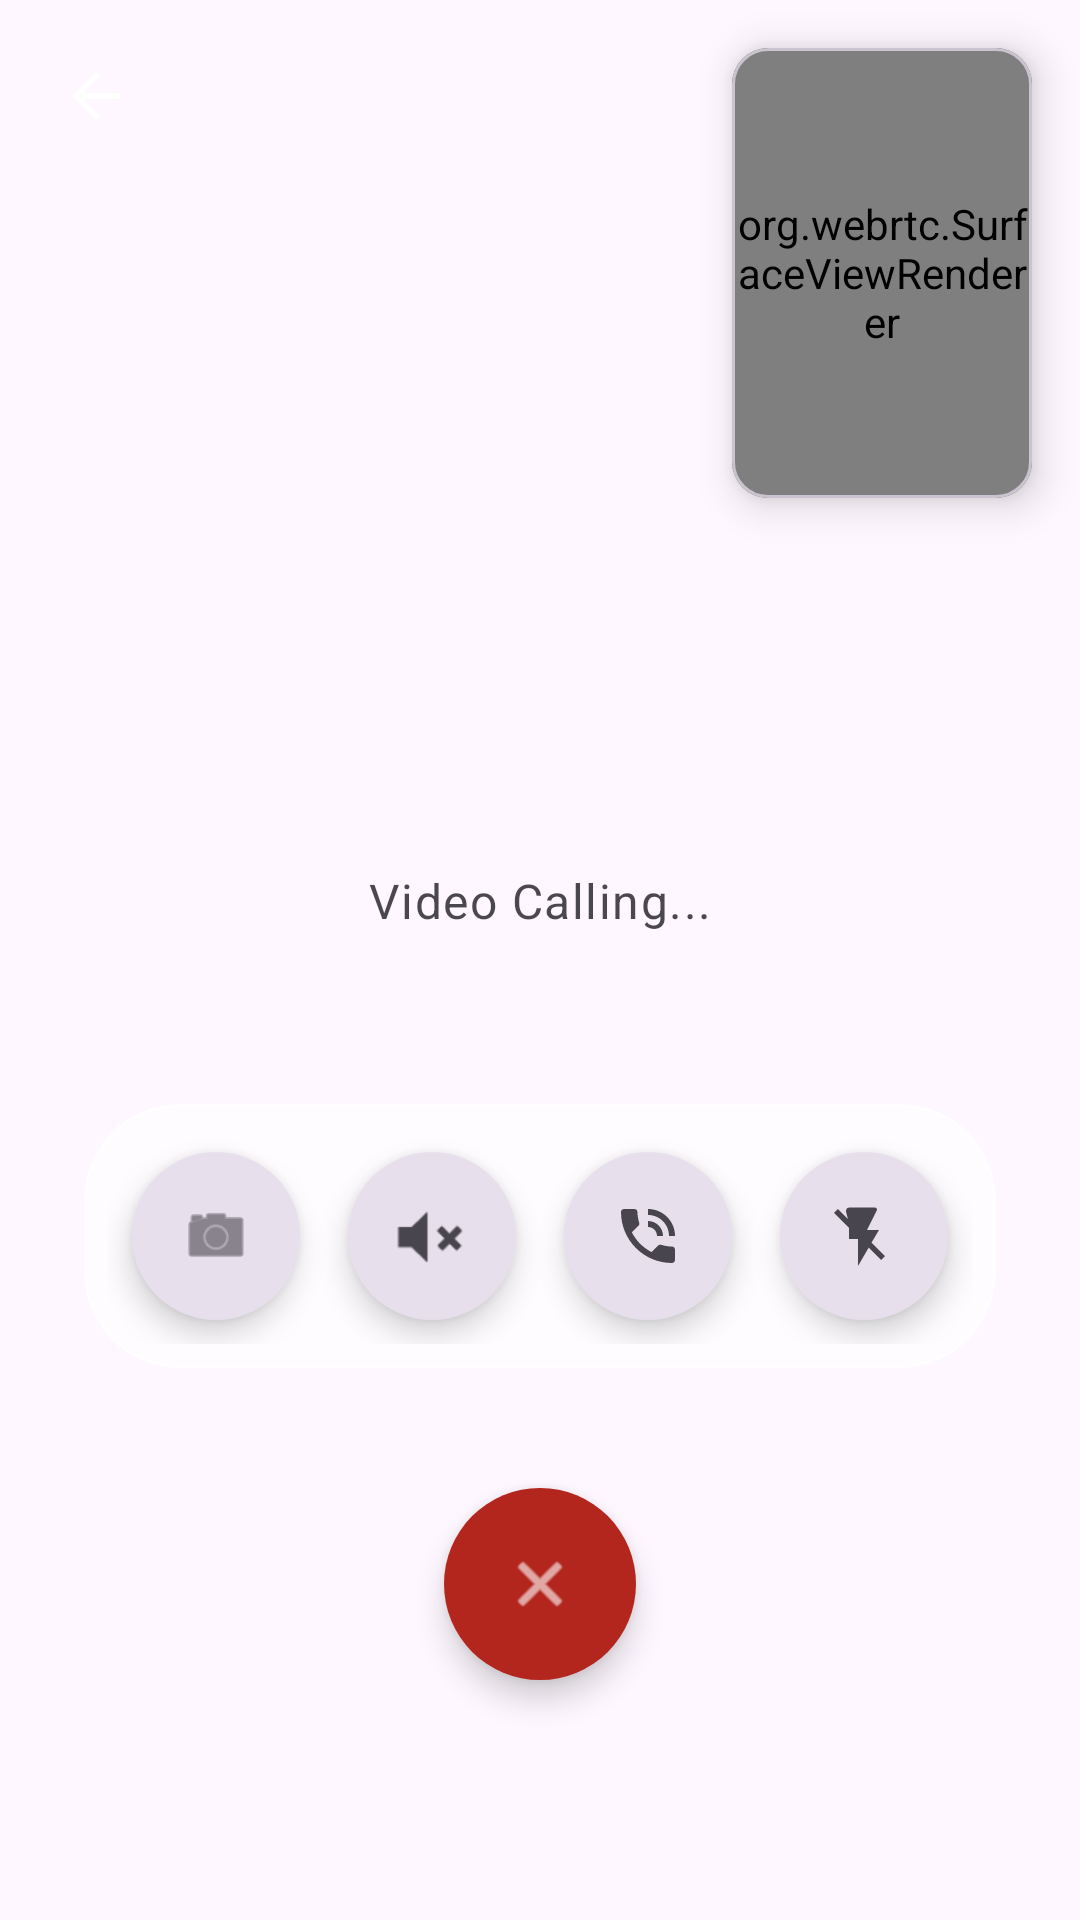

Where icons sit on this 1080px×1920px app screen, as (x1, y1, x2, y2):
Decline: (444, 1488, 636, 1680)
Flash: (780, 1152, 948, 1320)
Mute: (348, 1152, 516, 1320)
Switch Camera: (132, 1152, 300, 1320)
